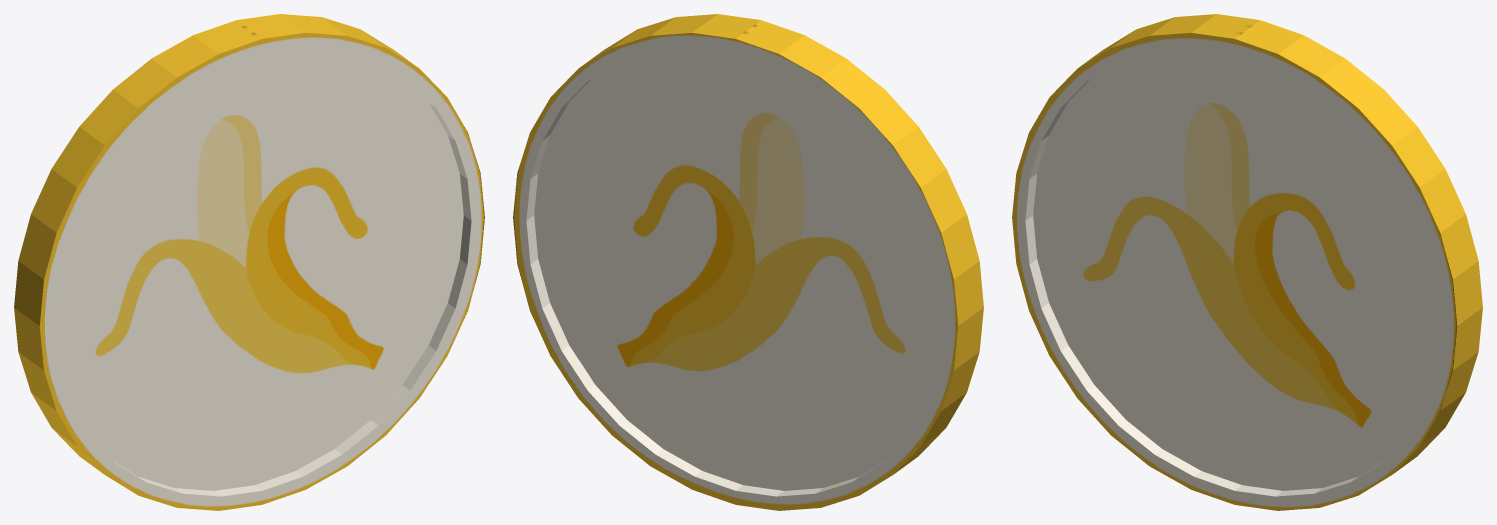
The model's file is BANANA.glb.
3 views of the same model, side by side, from view 1: azimuth 30°, elevation 25°; view 2: azimuth 150°, elevation 25°; view 3: azimuth 330°, elevation 25° (orthographic).
Parts seen in each view (by area): view 1: Cylinder; view 2: Cylinder; view 3: Cylinder.
Boxes of the visible parts, x1,y1,x2,y2 form: Cylinder: (14,14,484,510); Cylinder: (513,14,983,510); Cylinder: (1012,14,1482,510).
Size of the model in its own units: 1 by 1 by 0.1.
1 material, 1 textured.
